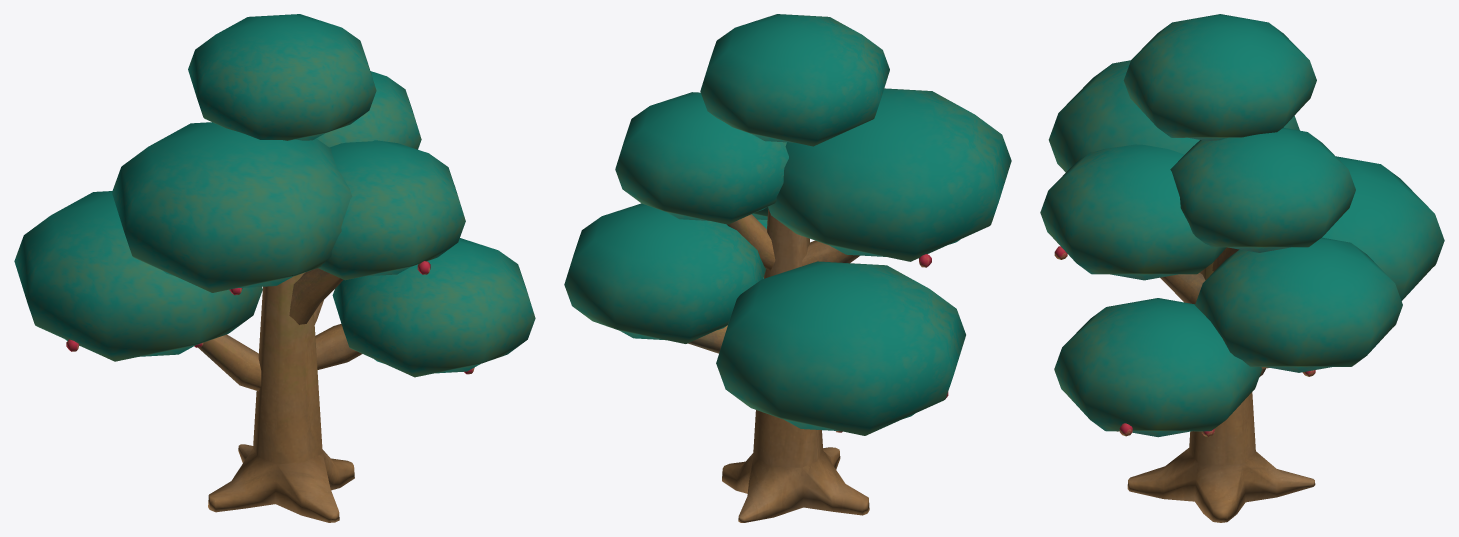
The model's file is wood_02.fbx.
The picture shows the model from 3 angles, left to right: view 1: azimuth 30°, elevation 25°; view 2: azimuth 150°, elevation 25°; view 3: azimuth 270°, elevation 25°; orthographic projection.
Parts seen in each view (by area): view 1: wood_02; view 2: wood_02; view 3: wood_02.
Part boxes in pixels (x1,y1,x2,y2): wood_02: [14, 14, 535, 522]; wood_02: [564, 14, 1011, 522]; wood_02: [1040, 14, 1444, 522].
Size of the model in its own units: 96.57 by 103 by 81.83.
1 material, 1 textured.
